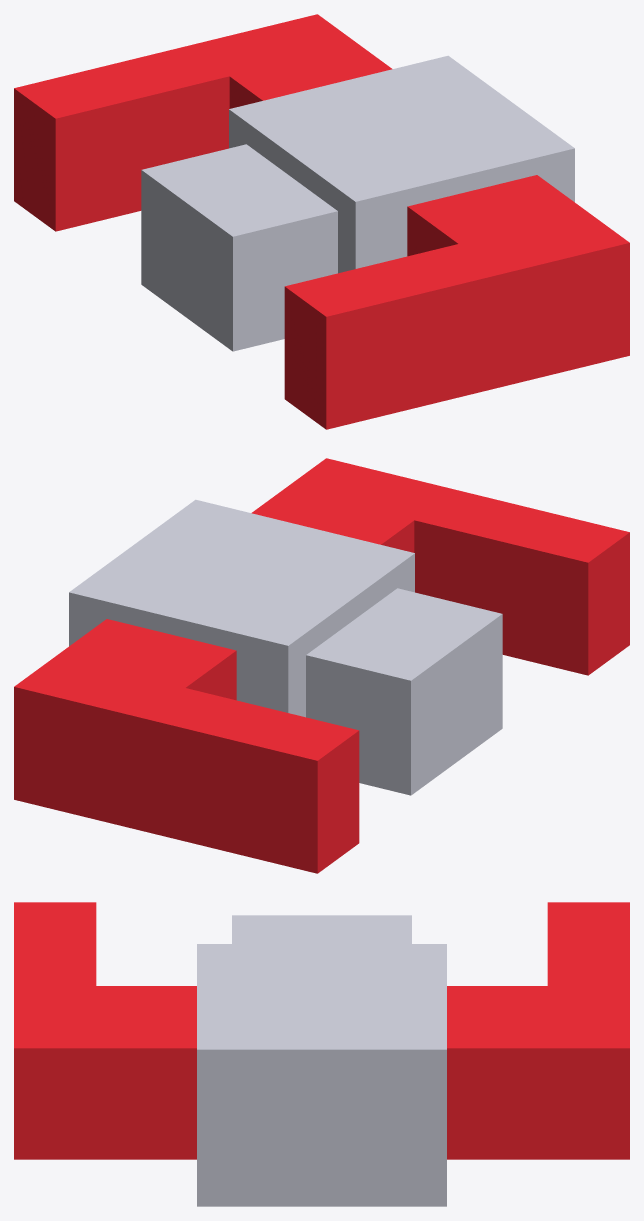
Rendered from vihu1.fbx.
The picture shows the model from 3 angles, top to bottom: view 1: azimuth 30°, elevation 25°; view 2: azimuth 150°, elevation 25°; view 3: azimuth 270°, elevation 25°; orthographic projection.
Parts seen in each view (by area): view 1: Cube.001, Cube.002, Cube.003; view 2: Cube.001, Cube.003, Cube.002; view 3: Cube.001, Cube.002, Cube.003.
Boxes of the visible parts, <box> form: Cube.001: <box>141,55,574,351</box>; Cube.002: <box>284,175,629,429</box>; Cube.003: <box>14,14,392,231</box>; Cube.001: <box>69,499,502,795</box>; Cube.003: <box>14,619,359,873</box>; Cube.002: <box>251,458,629,675</box>; Cube.001: <box>197,915,446,1206</box>; Cube.002: <box>14,902,196,1159</box>; Cube.003: <box>447,902,629,1159</box>.
Bounding box in the file's own units: 229 × 102 × 362.
